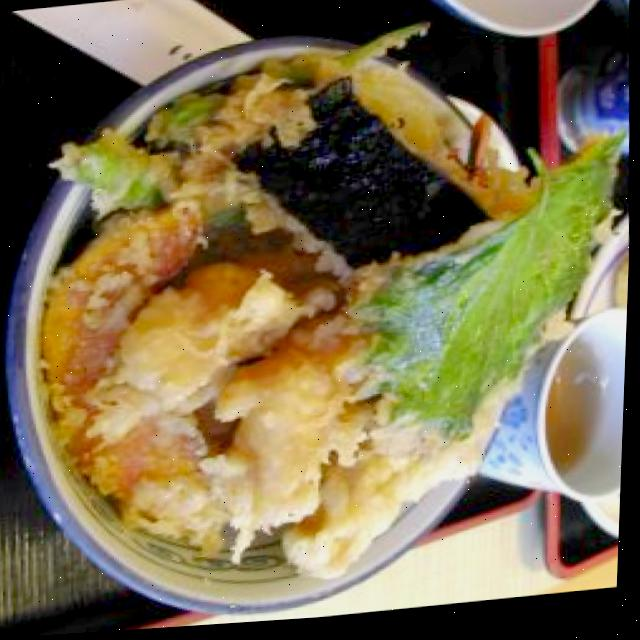熟制海鲜: (0, 5, 605, 640)
